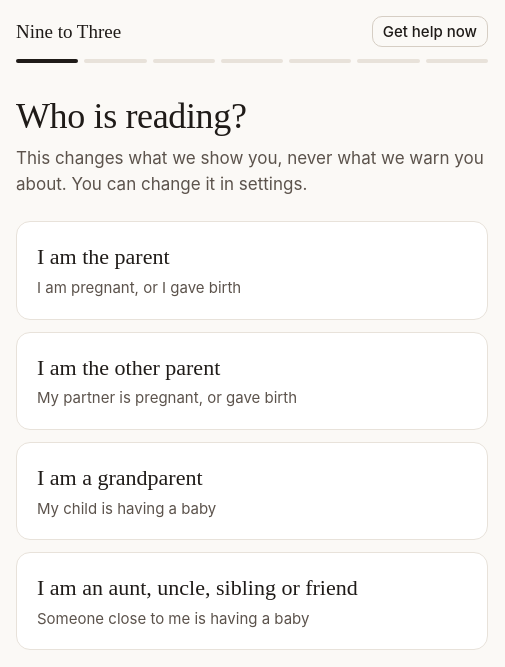
OnboardingFlow › asks for a due date when pregnant
The image size is (505, 667).
Click the button "I am the parent I am pregnant, or I gave birth" at (103, 257), box [16,221,488,320]
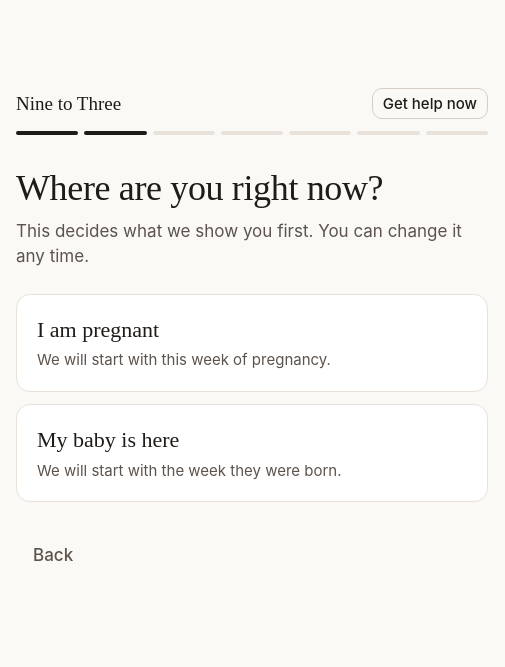
Click the button "I am pregnant We will start with this week of pregnancy." at (98, 329), box [16,294,488,392]
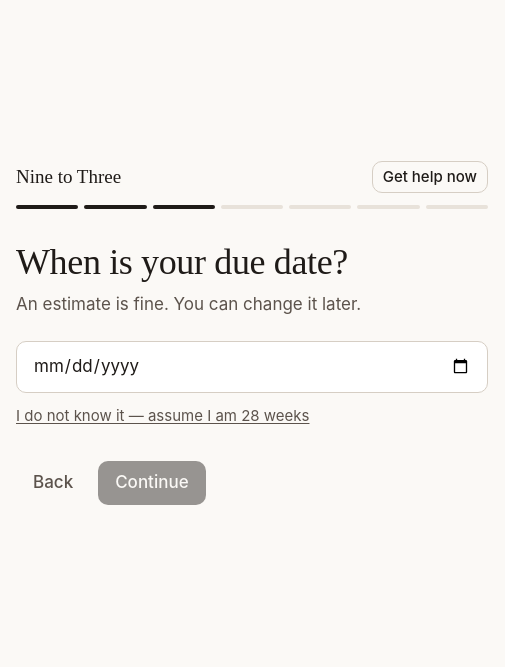
Expected: the heading "When is your due date?" is shown, [16,242,348,282]
